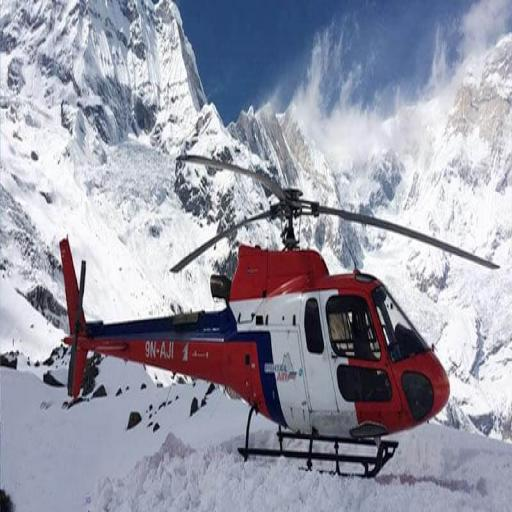helicopter: (54, 141, 504, 481)
